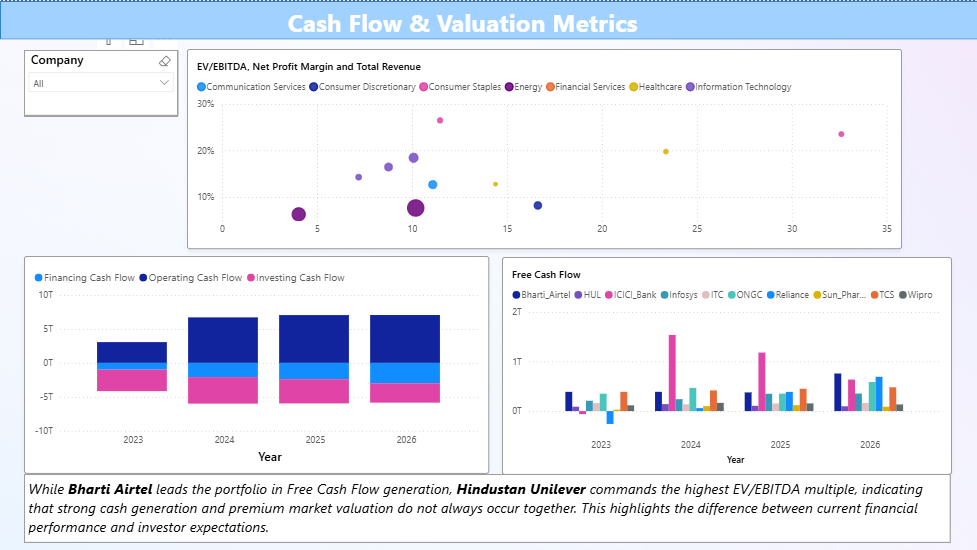

The dashboard page shown, as its layout file describes it:
{"tool":"powerbi","page":{"name":"Page 5","canvas":[1280,720],"ordinal":4},"visuals":[{"type":"columnChart","fields":{"Category":["Dim_Year.Year"],"Y":["Sum(Cash_Flow.Financing Cash Flow)","Sum(Cash_Flow.Operating Cash Flow)","Sum(Cash_Flow.Investing Cash Flow)"]},"box":[31.7,334.1,609.1,285.1],"z":0},{"type":"slicer","fields":{"Values":["Dim_Company.Company"]},"box":[31.7,64.8,201.6,86.4],"z":1000},{"type":"scatterChart","title":"EV/EBITDA, Net Profit Margin and Total Revenue","fields":{"Category":["Dim_Company.Company"],"X":["Market_Cap.EV/EBITDA"],"Y":["Market_Cap.Net Profit Margin"],"Size":["Income_Statements.Total_Revenue"],"Series":["Industry_company.Industry"]},"box":[244.8,63.4,936,262.1],"z":2000},{"type":"clusteredColumnChart","title":"Free Cash Flow","fields":{"Category":["Dim_Year.Year"],"Y":["Sum(Cash_Flow.Free Cash Flow)"],"Series":["Dim_Company.Company"]},"box":[656.6,335.5,589,285.1],"z":3000},{"type":"shape","box":[0,0,1280.2,50.4],"z":4000},{"type":"textbox","box":[371.5,0,479.5,54.7],"z":5000},{"type":"textbox","box":[31.6,619.8,1213.3,89.5],"z":6000},{"type":"slicer","fields":{"Values":["Dim_Year.Year"]},"box":[1173.6,0,13,13],"z":7000}]}

Visuals, with their boxes in screenshot pixels (x1, y1, x2, y2), scaled from the page's 1280x720 canvas onto the 977x550 screenshot:
columnChart - Dim_Year.Year x Sum(Cash_Flow.Financing Cash Flow): select_region(24, 255, 489, 473)
slicer - Dim_Company.Company: select_region(24, 49, 178, 115)
"EV/EBITDA, Net Profit Margin and Total Revenue" scatterChart: select_region(187, 48, 901, 249)
"Free Cash Flow" clusteredColumnChart: select_region(501, 256, 951, 474)
shape: select_region(0, 0, 976, 38)
textbox: select_region(284, 0, 650, 42)
textbox: select_region(24, 473, 950, 542)
slicer - Dim_Year.Year: select_region(896, 0, 906, 10)
